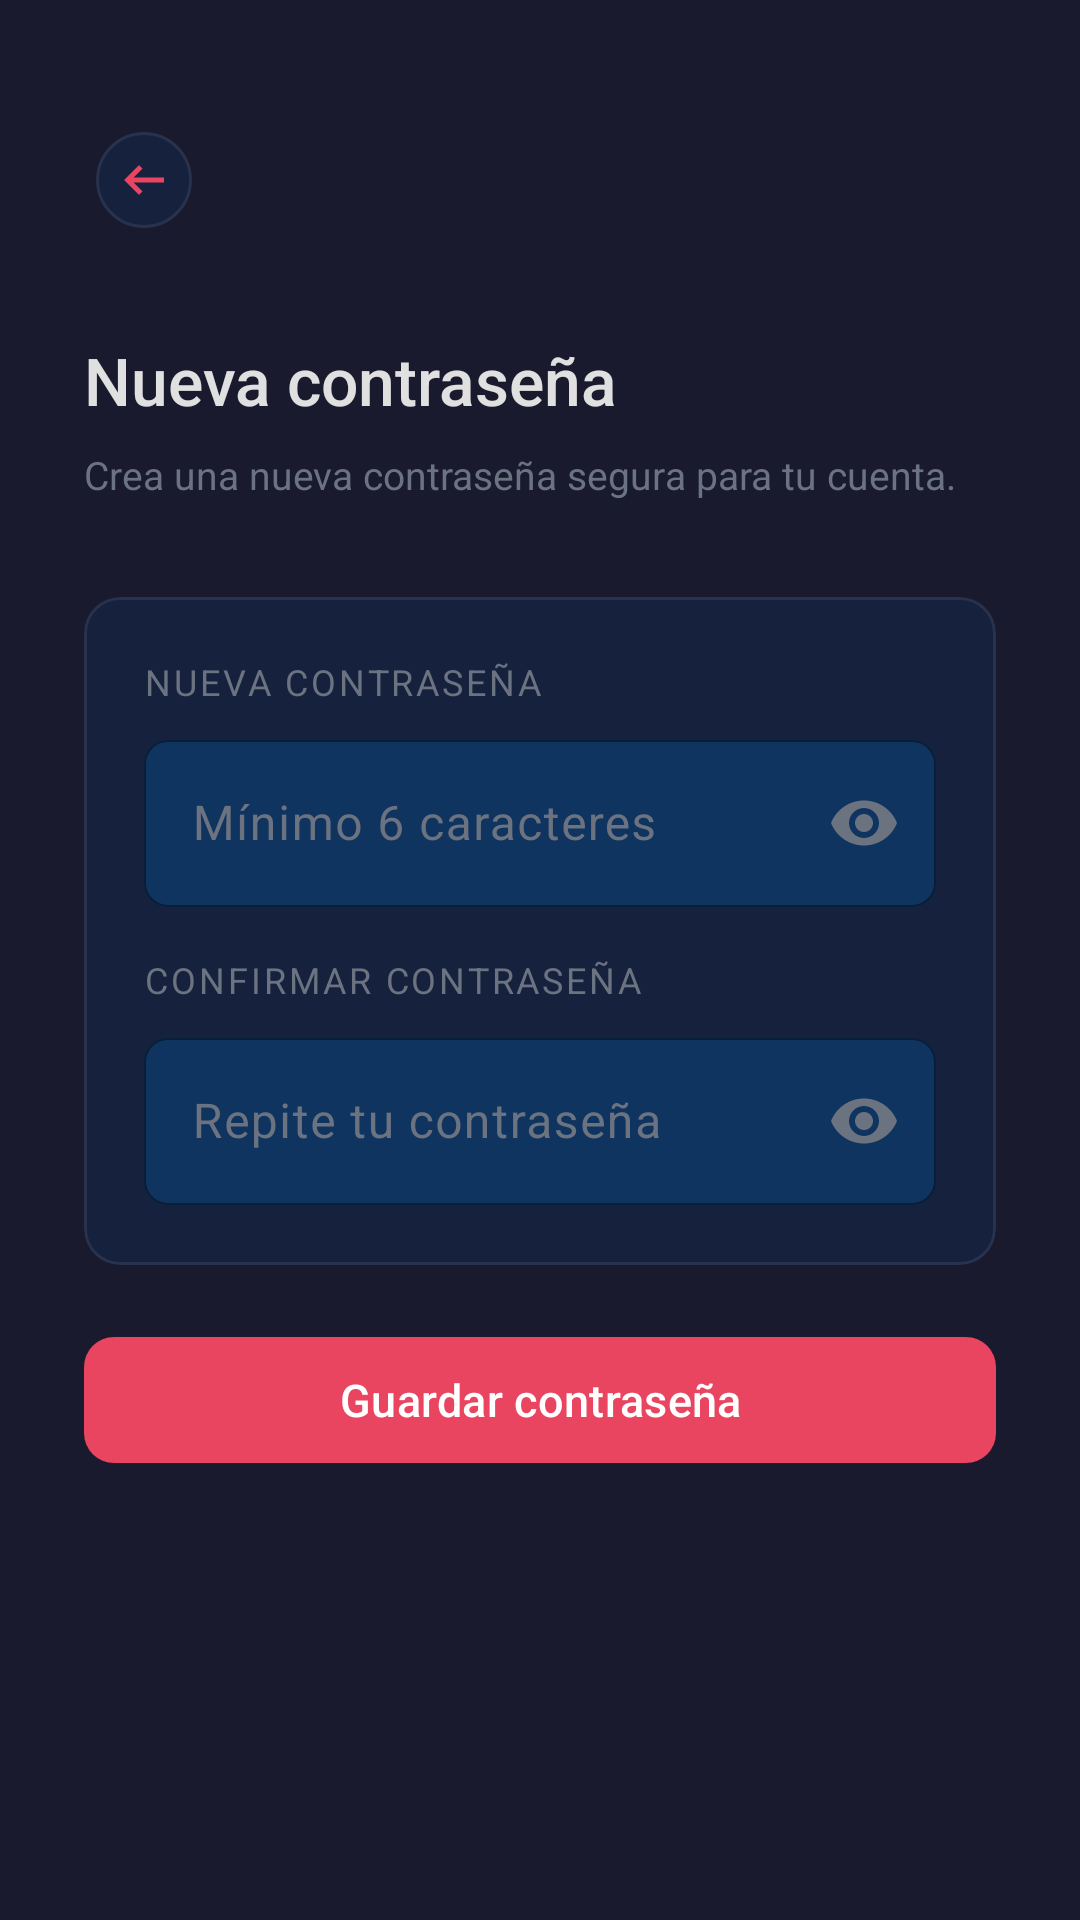

Where to tap for icons on this 1080×1920 app screen, as point (x, y):
arrow left: point (144, 180)
